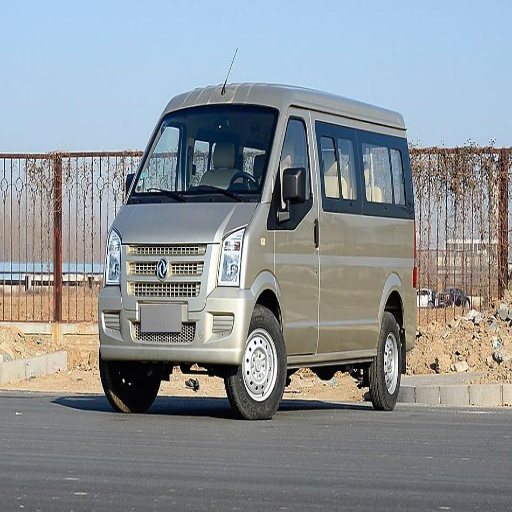front_bumper: (100, 243, 253, 359)
front_glass: (130, 105, 278, 200)
front_left_door: (273, 112, 361, 353)
trunk: (345, 221, 417, 332)
